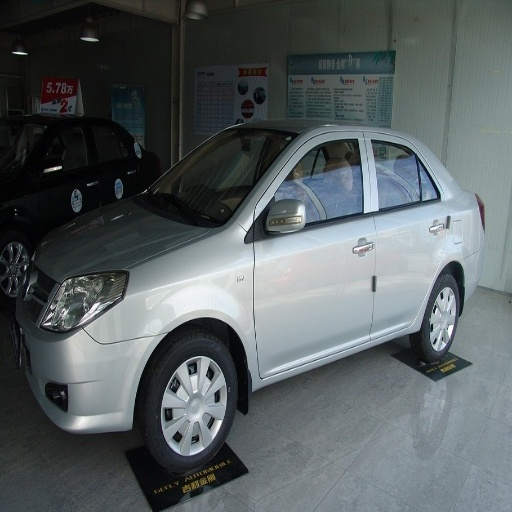back_glass: (9, 121, 71, 158)
front_bumper: (21, 305, 159, 435)
front_glass: (148, 130, 294, 223)
front_left_door: (254, 133, 375, 378)
